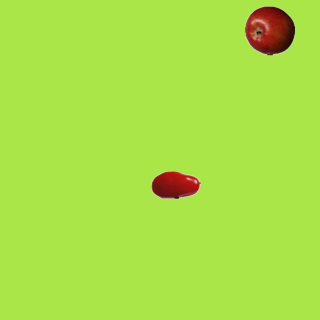Apple Braeburn: (244, 5, 294, 55)
Tomato 2: (150, 159, 200, 209)
